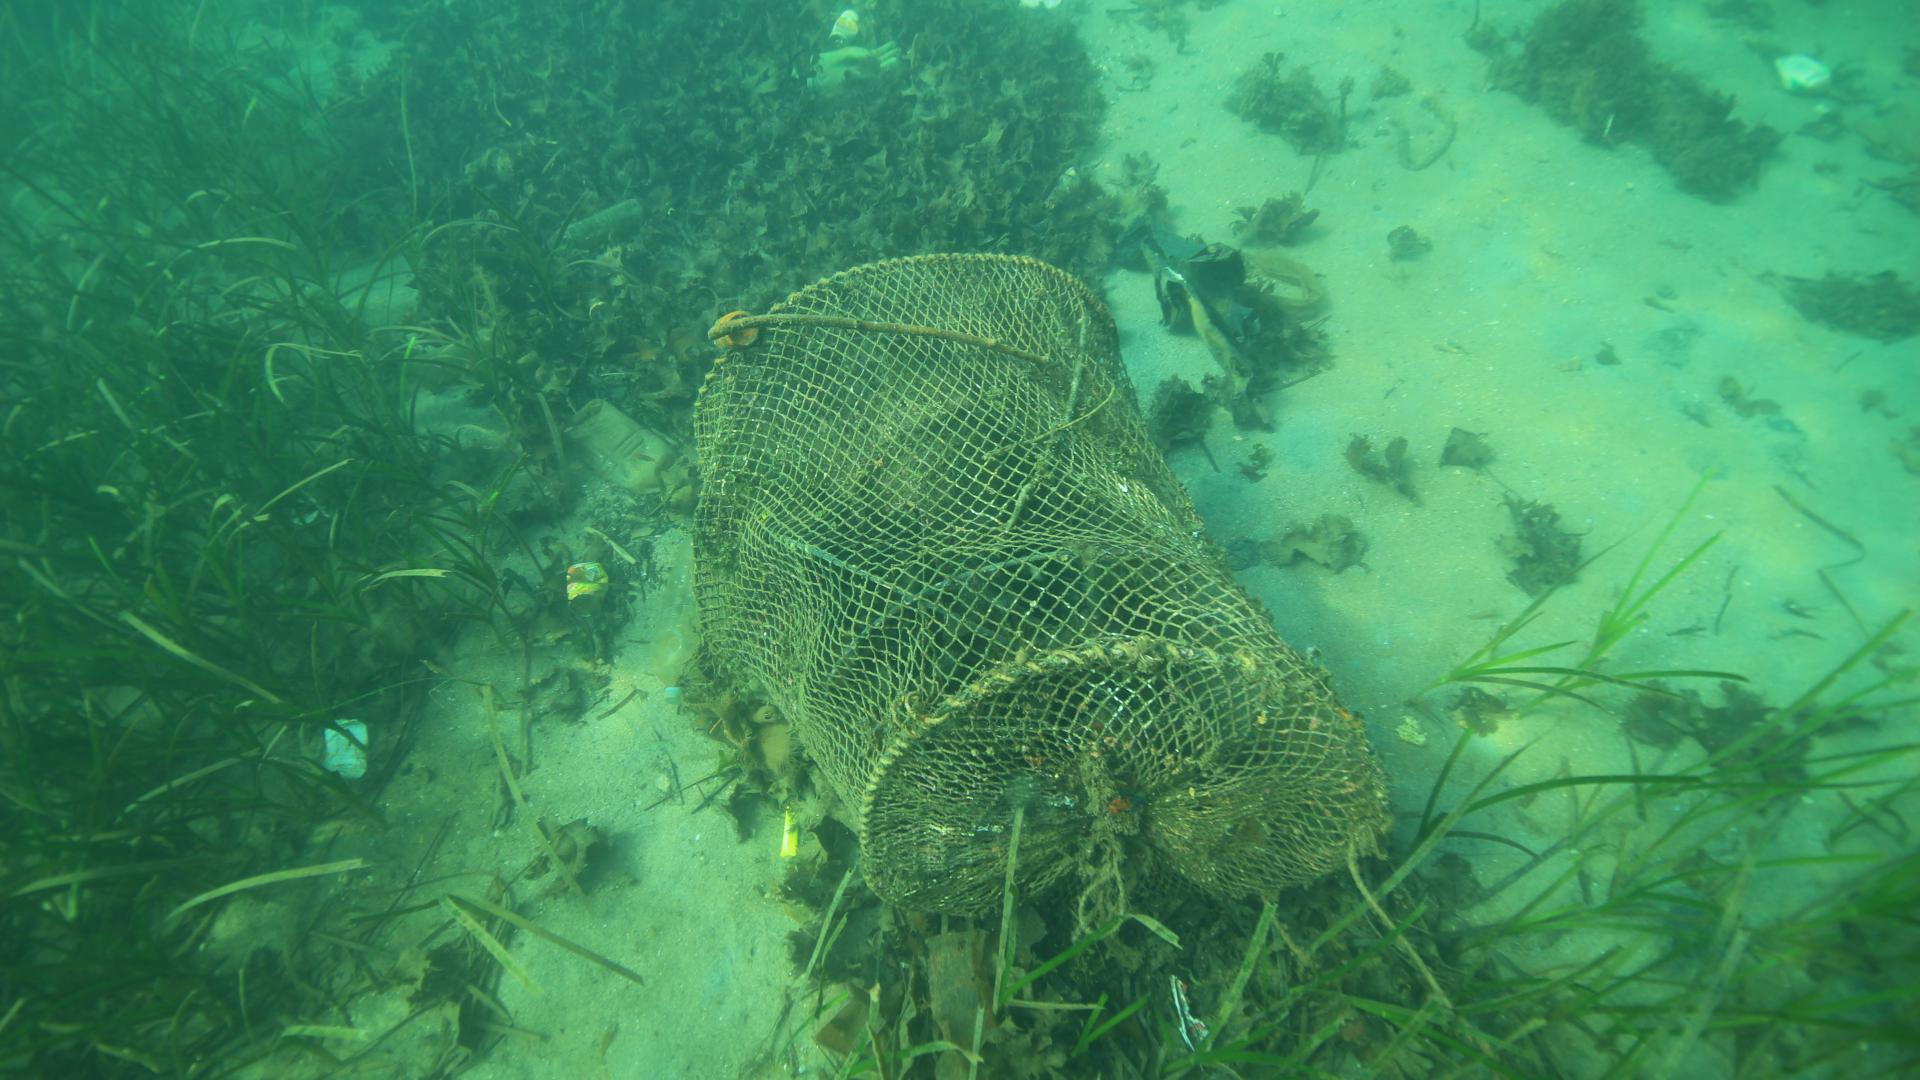spring fish trap: (686, 248, 1395, 936)
